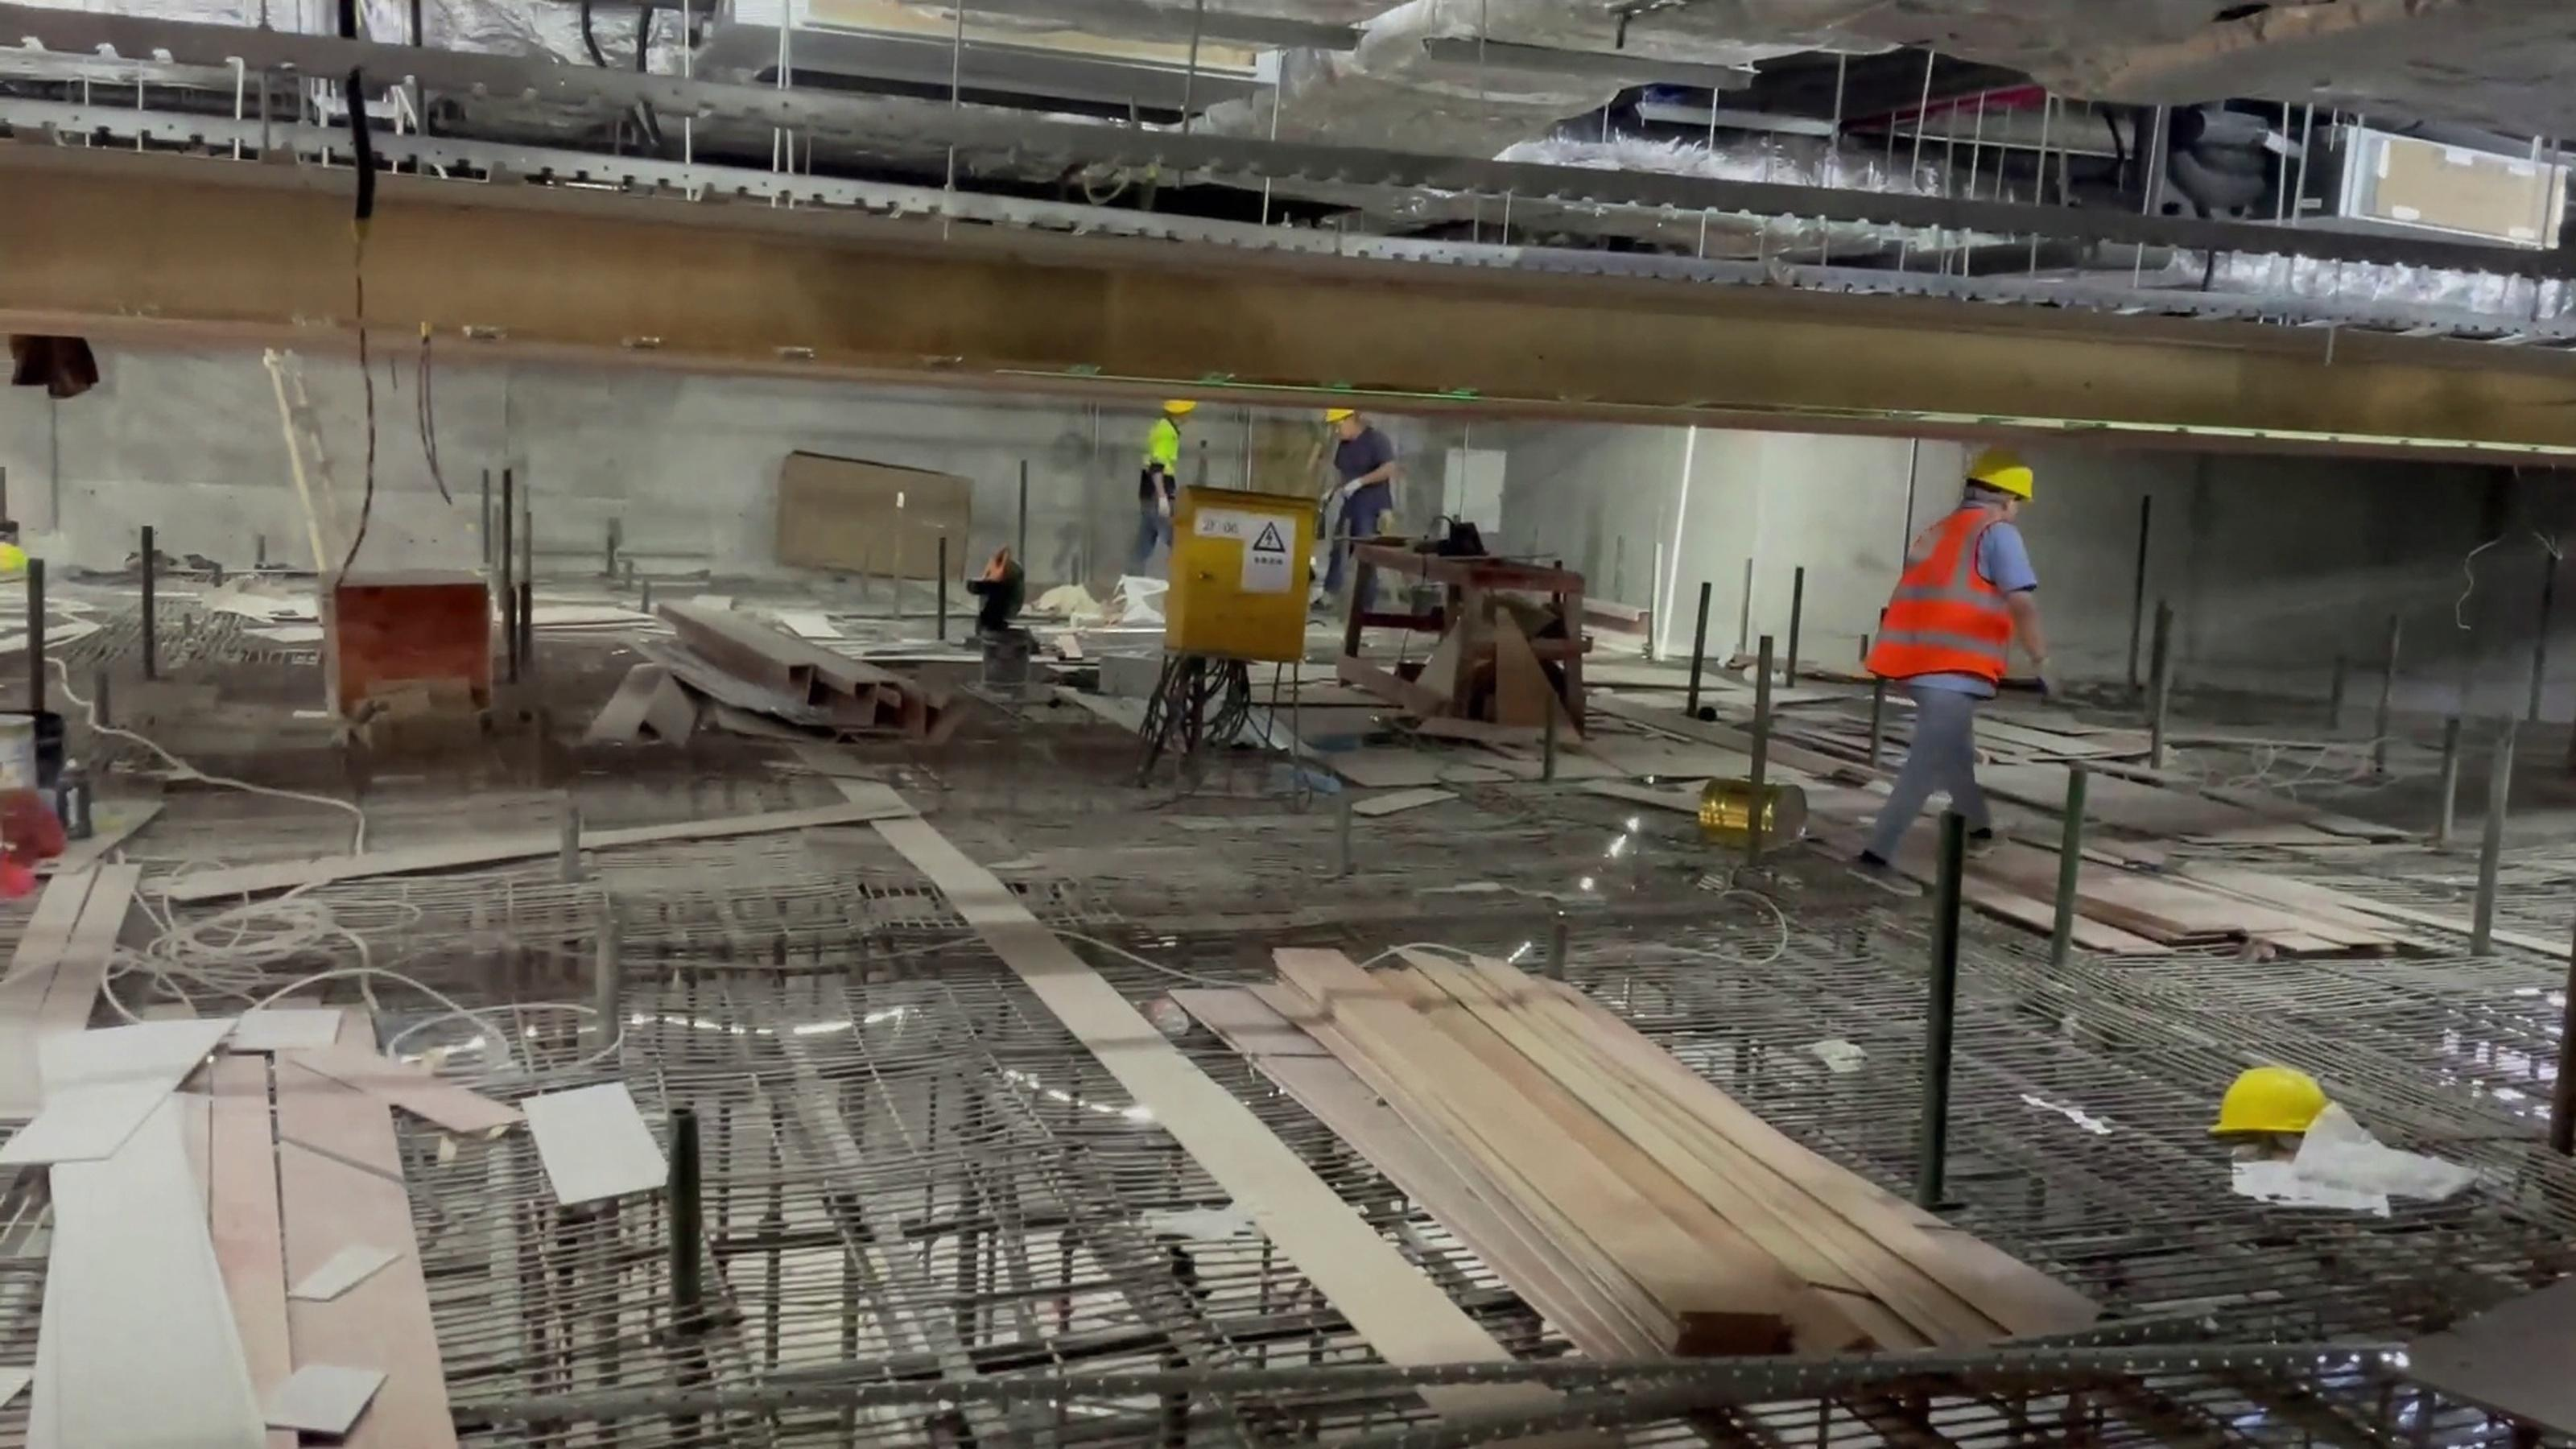board: (1254, 919, 1872, 1335)
cutter: (1335, 522, 1604, 757)
ebox: (1127, 482, 1325, 788)
helmet: (2210, 1066, 2353, 1138), (1967, 432, 2051, 505), (1323, 395, 1368, 419), (1164, 391, 1196, 415)
person: (1870, 432, 2029, 893), (1311, 382, 1410, 603), (1131, 372, 1203, 581)
vest: (1141, 413, 1185, 479)
